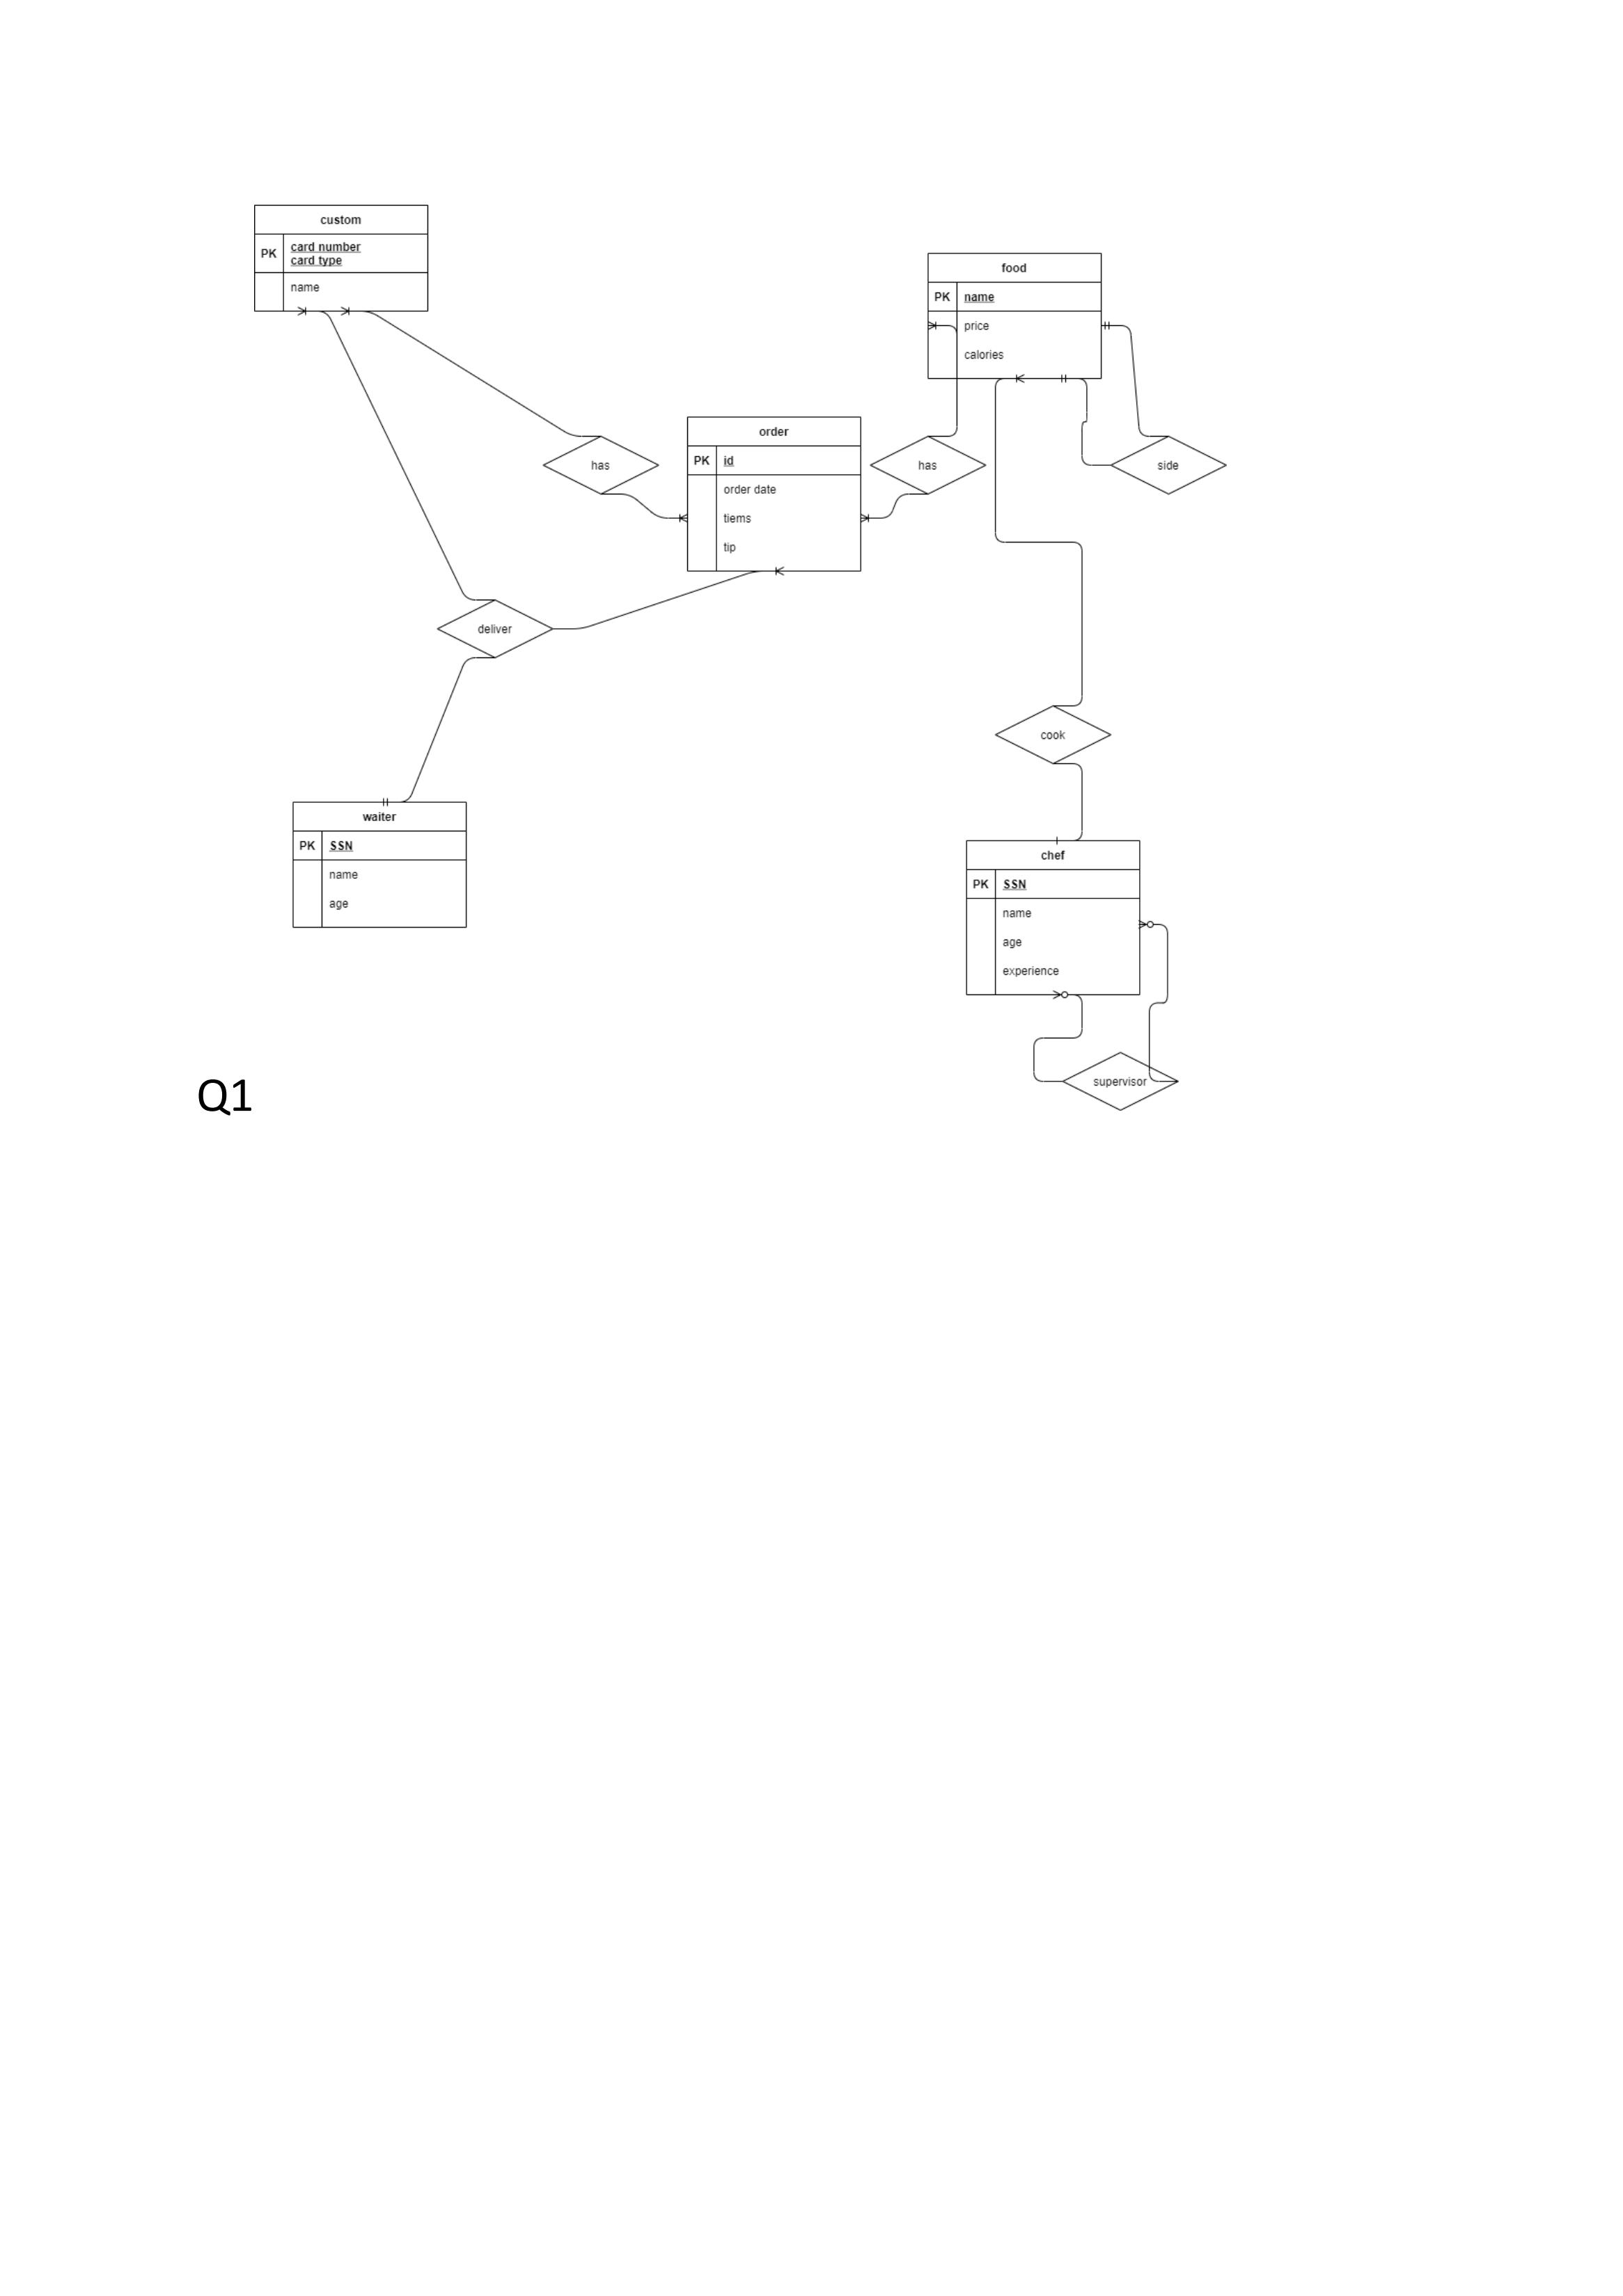Entity: (964, 840, 1142, 996), (685, 416, 862, 573), (292, 801, 467, 928), (927, 253, 1101, 379), (253, 204, 430, 313)
Relationship: (994, 704, 1110, 766), (543, 436, 660, 494), (869, 436, 987, 494), (437, 599, 552, 659), (1063, 1052, 1179, 1110), (1110, 437, 1226, 494)
